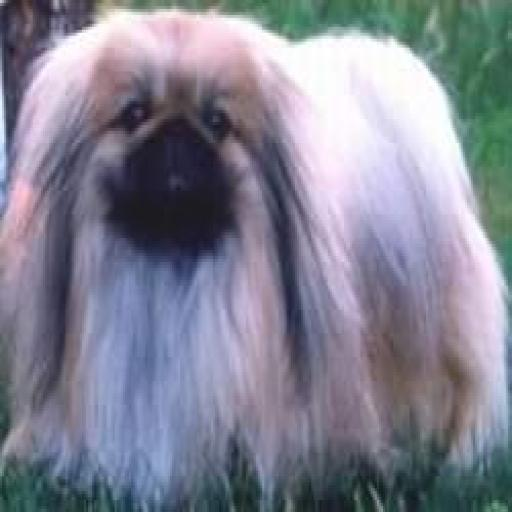dog_face: (30, 18, 314, 289)
